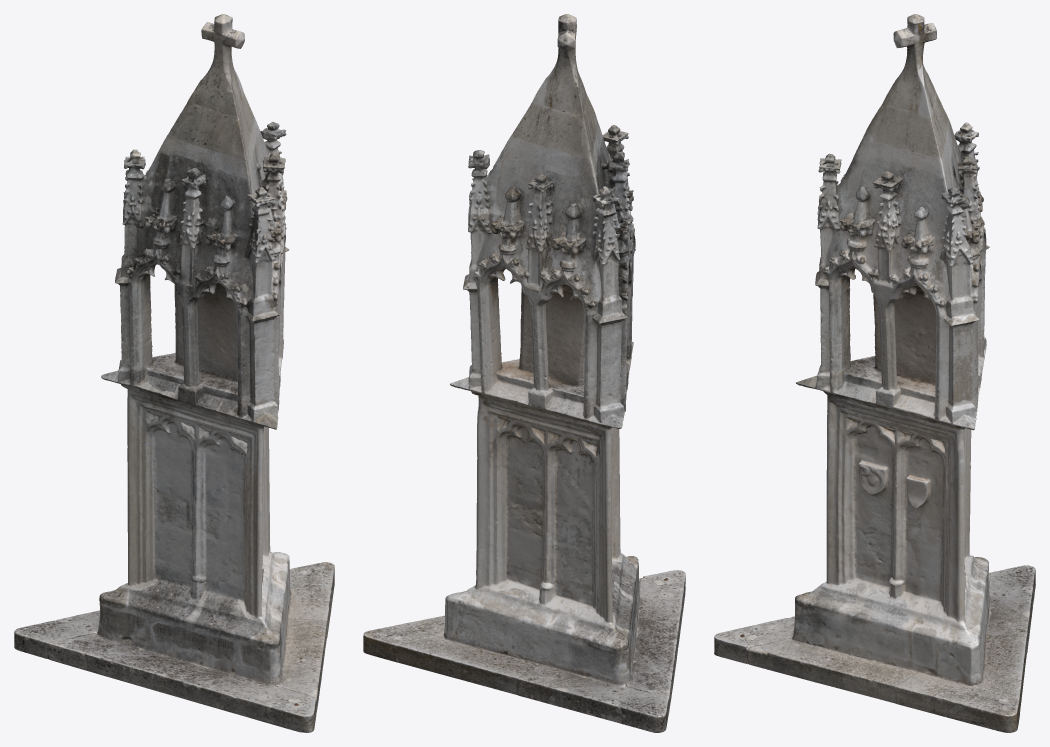
File: pillar.glb
The picture shows the model from 3 angles, left to right: view 1: azimuth 30°, elevation 25°; view 2: azimuth 150°, elevation 25°; view 3: azimuth 270°, elevation 25°; orthographic projection.
Visible parts, largest first — view 1: Object_2; view 2: Object_2; view 3: Object_2.
Boxes of the visible parts, bbox=[...] form: Object_2: bbox=[14, 14, 334, 732]; Object_2: bbox=[363, 14, 685, 732]; Object_2: bbox=[714, 14, 1035, 732].
Bounding box in the file's own units: 2.24 × 4.45 × 2.01.
2 materials, 1 textured.
